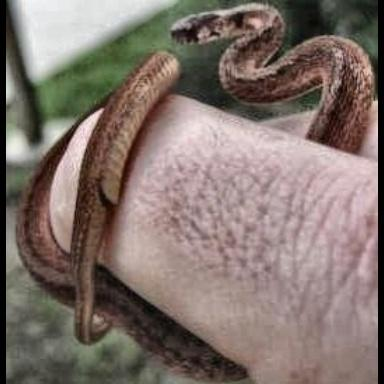snake: (16, 52, 256, 384), (171, 3, 375, 155)
